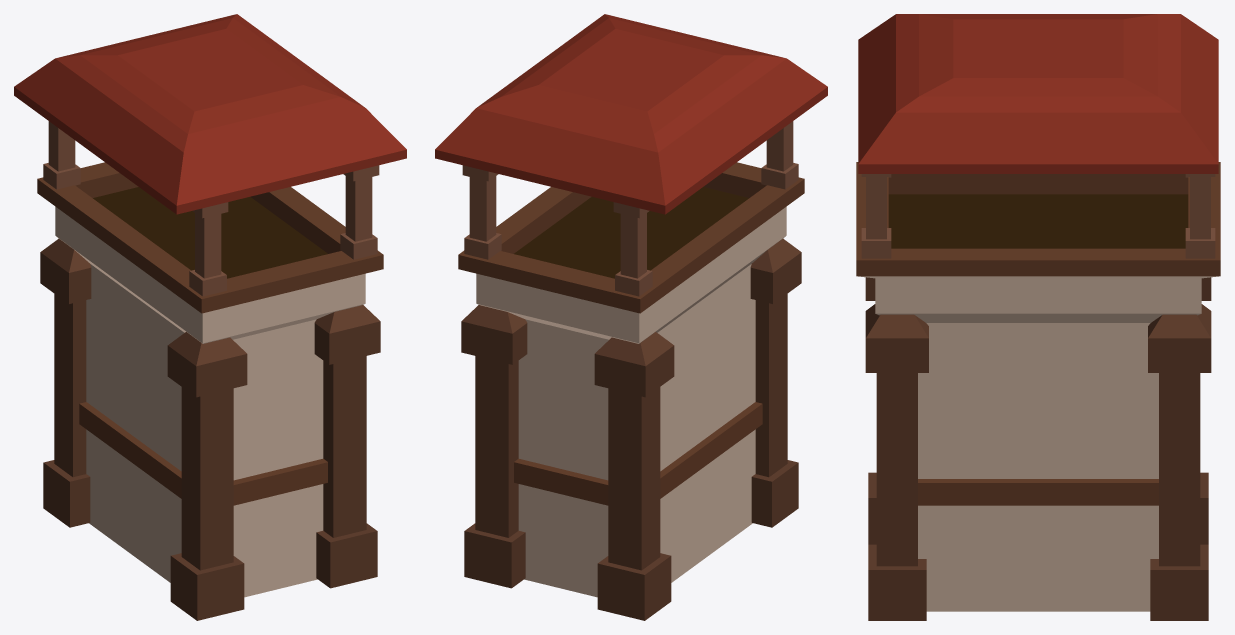
The model's file is tower.fbx.
3 renders of one model, left to right at view 1: azimuth 30°, elevation 25°; view 2: azimuth 150°, elevation 25°; view 3: azimuth 270°, elevation 25°, orthographic. The views are drawn at different scales.
Visible parts, largest first — view 1: Cube, Cube.002, Cube.003, Cube.001; view 2: Cube, Cube.002, Cube.003, Cube.001; view 3: Cube, Cube.002, Cube.003, Cube.001.
Part boxes in pixels (<box>): Cube: <box>37,162,383,597</box>; Cube.002: <box>14,14,406,214</box>; Cube.003: <box>40,238,380,620</box>; Cube.001: <box>43,121,379,296</box>; Cube: <box>458,162,804,597</box>; Cube.002: <box>435,14,827,214</box>; Cube.003: <box>461,238,801,620</box>; Cube.001: <box>462,121,798,296</box>; Cube: <box>856,162,1220,611</box>; Cube.002: <box>858,14,1218,173</box>; Cube.003: <box>865,277,1211,620</box>; Cube.001: <box>861,174,1215,258</box>.
Size of the model in its own units: 985 by 1938 by 1219.
